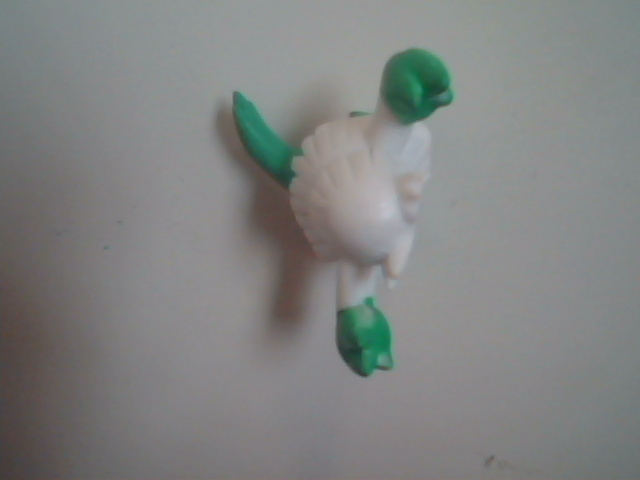abomasnow: (150, 56, 519, 394)
